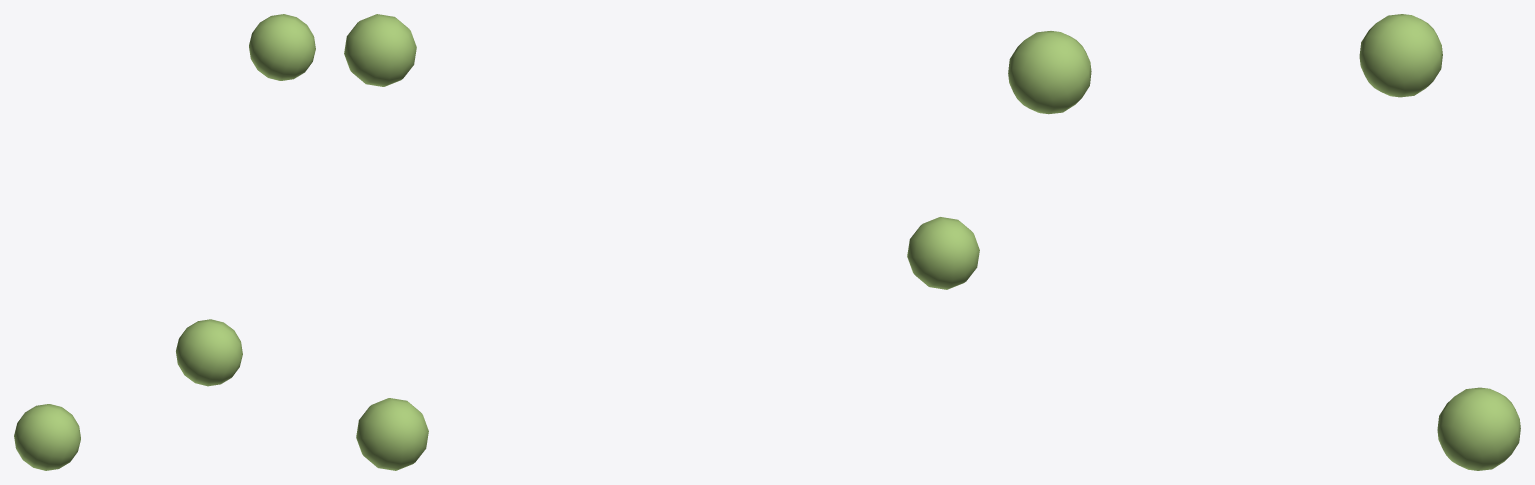
Rendered from mandibular-node-l.glb.
3 renders of one model, left to right at view 1: azimuth 30°, elevation 25°; view 2: azimuth 150°, elevation 25°; view 3: azimuth 270°, elevation 25°, orthographic. The views are drawn at different scales.
Visible parts, largest first — view 1: Mandibular node.l; view 2: Mandibular node.l; view 3: Mandibular node.l.
Part boxes in pixels (bbox=[...]): Mandibular node.l: bbox=[14, 14, 315, 470]; Mandibular node.l: bbox=[344, 14, 979, 470]; Mandibular node.l: bbox=[1008, 14, 1520, 470].
Size of the model in its own units: 0.0193 by 0.0161 by 0.0158.
